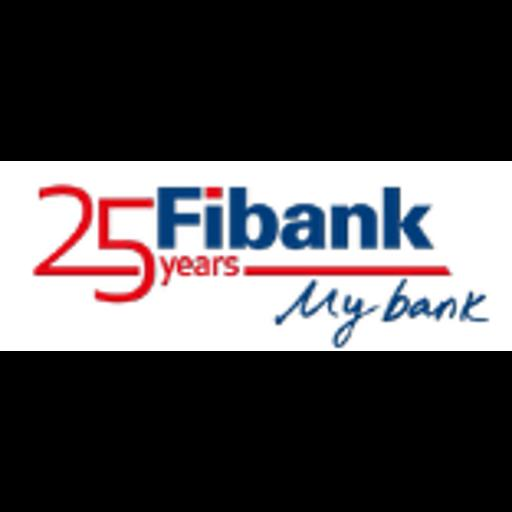First Investment Bank: (0, 161, 512, 351)
